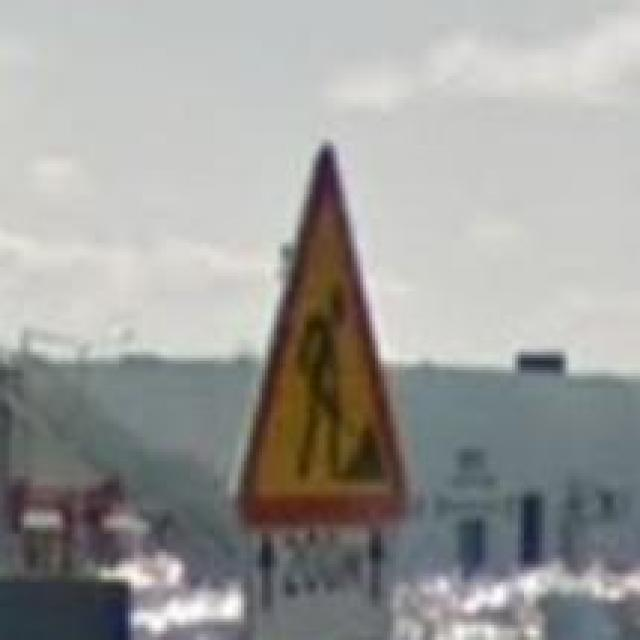road_work: (235, 142, 408, 524)
